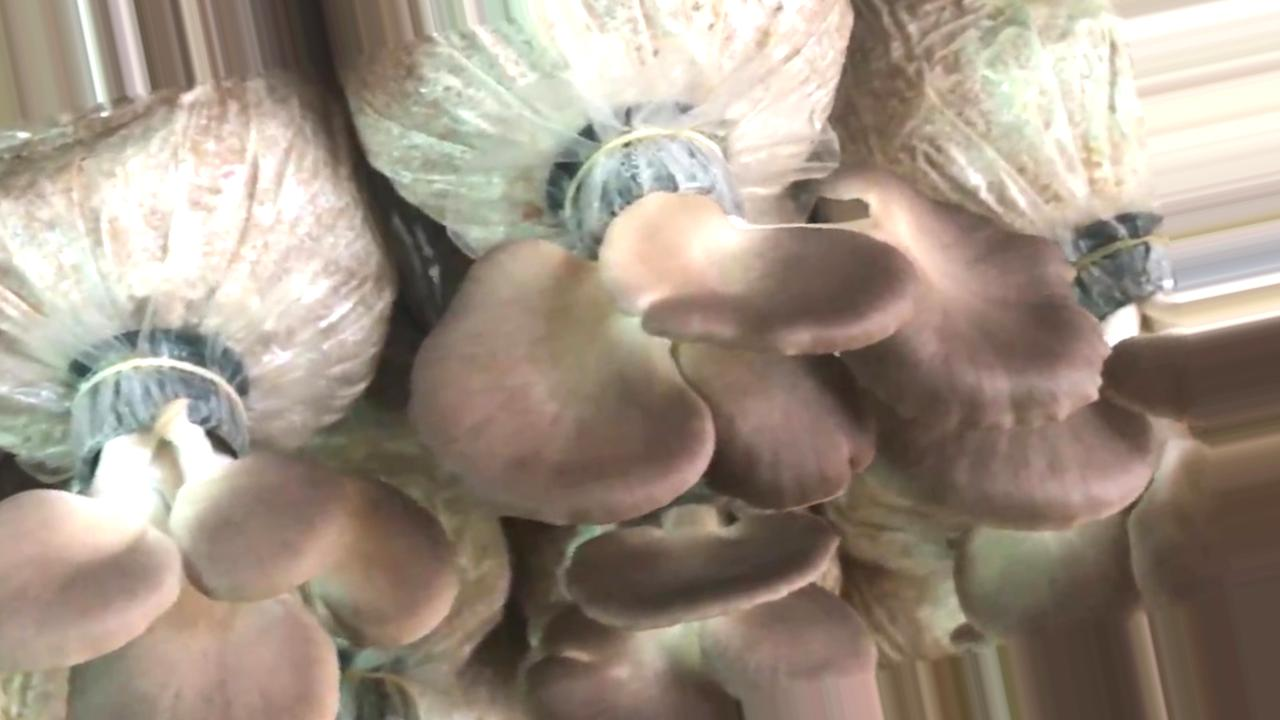nam: (413, 133, 1102, 631), (878, 238, 1280, 715), (1, 364, 456, 715), (524, 593, 877, 720)
